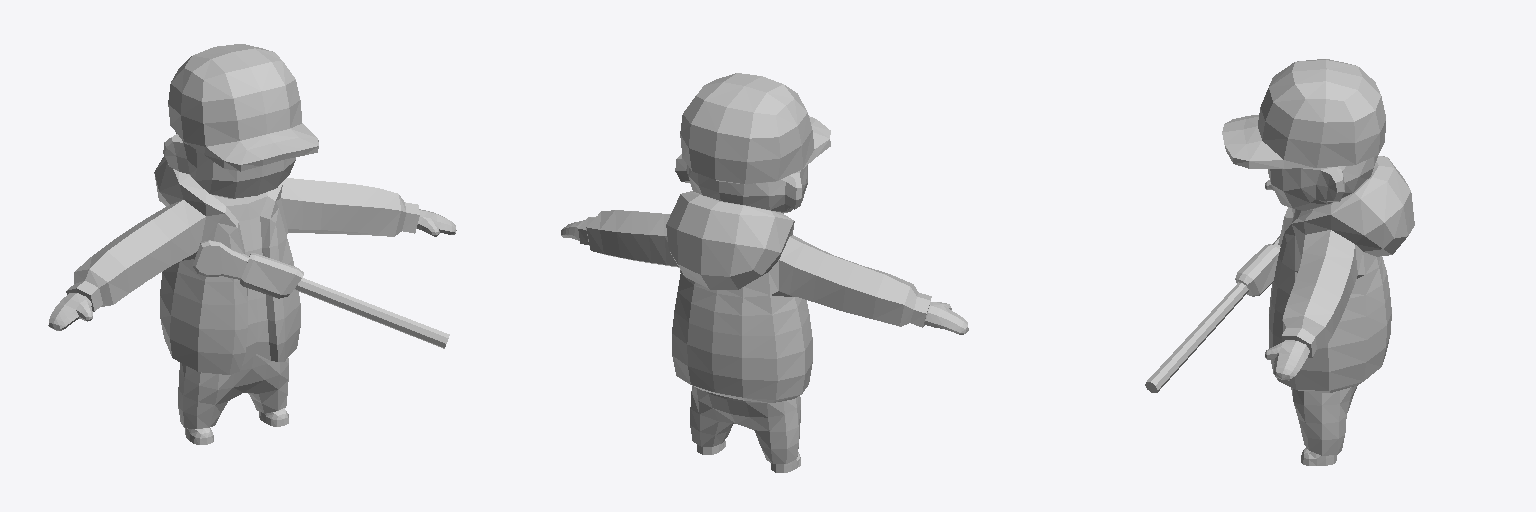
File: polychar.obj
3 views of the same model, side by side, from view 1: azimuth 30°, elevation 25°; view 2: azimuth 150°, elevation 25°; view 3: azimuth 270°, elevation 25° (orthographic).
Parts seen in each view (by area): view 1: Char_1_Plane.011; view 2: Char_1_Plane.011; view 3: Char_1_Plane.011.
Part boxes in pixels (left/top/right/bottom): Char_1_Plane.011: left=48, top=44, right=456, bottom=444; Char_1_Plane.011: left=561, top=73, right=968, bottom=472; Char_1_Plane.011: left=1145, top=59, right=1414, bottom=465.
Size of the model in its own units: 5.25 by 4.63 by 3.03.